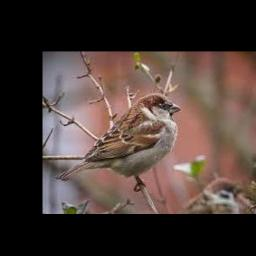Sparrow: (56, 93, 181, 190)
